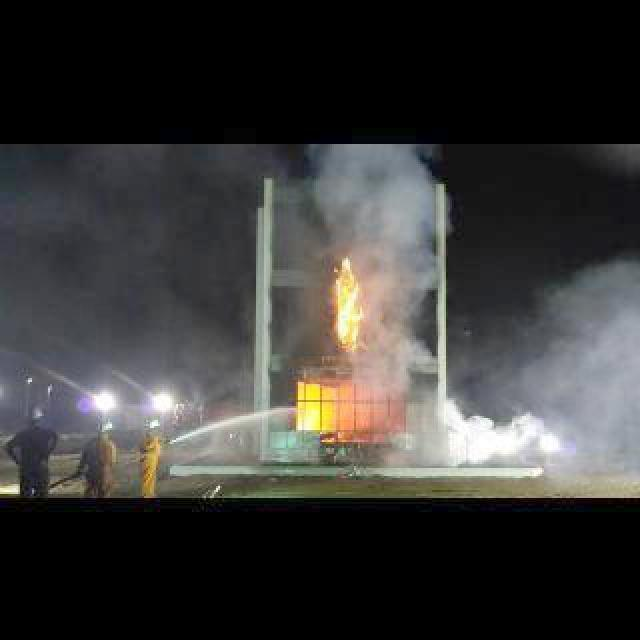fire: (334, 262, 367, 351)
smoke: (320, 147, 445, 379)
